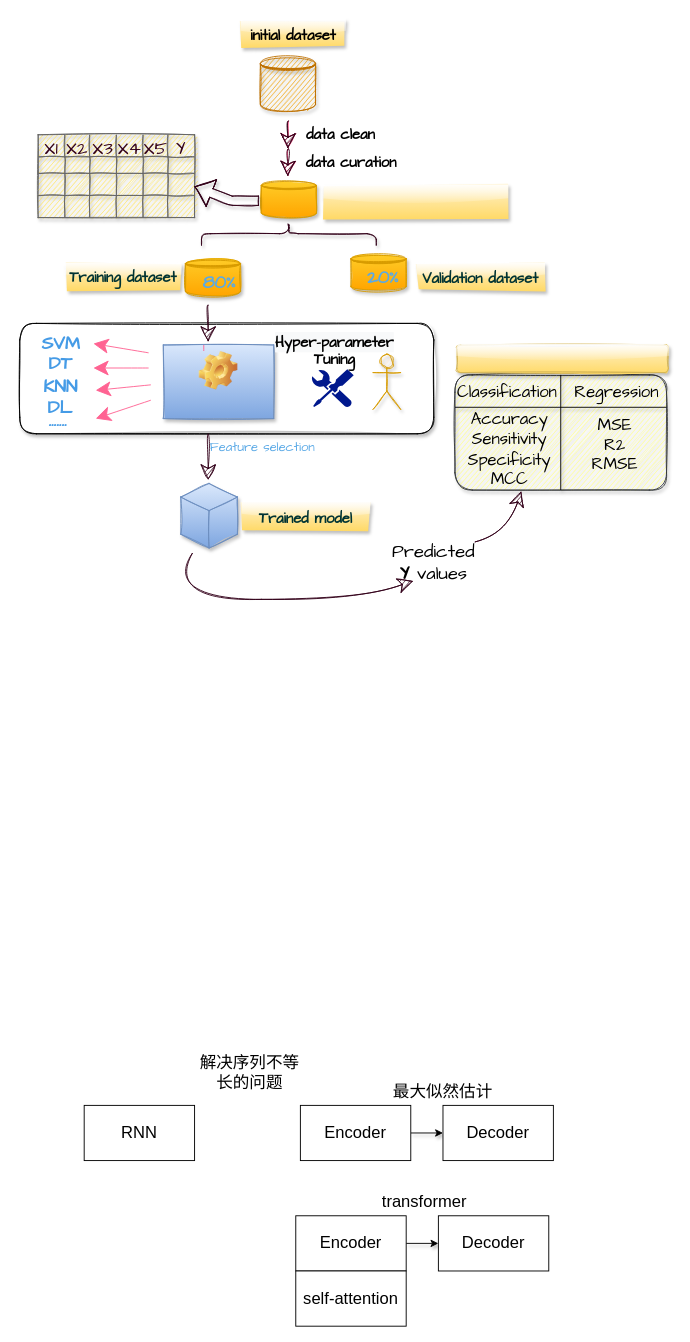
The diagram is 690 pixels wide and 1342 high, and some of its shapes have lost their labels. Each missing label, with the centre of its shape:
Evaluate model Performance: (563,359)
pre-processed dataset: (415,202)
train: (219,382)
